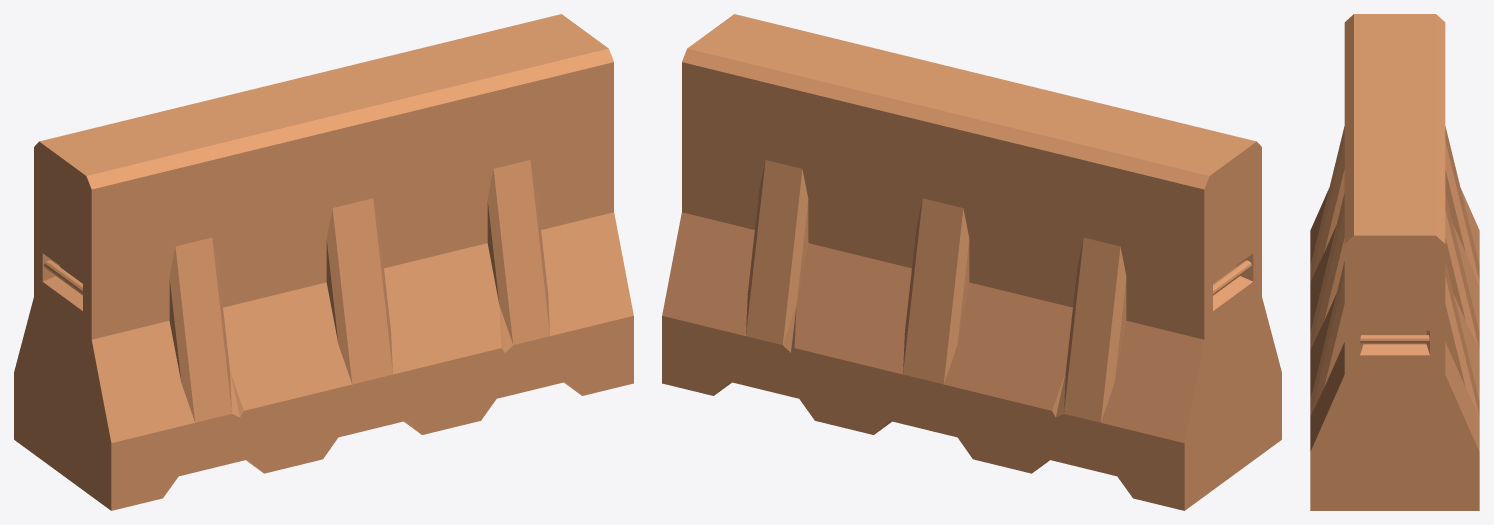
File: env_barrier_01.glb
The picture shows the model from 3 angles, left to right: view 1: azimuth 30°, elevation 25°; view 2: azimuth 150°, elevation 25°; view 3: azimuth 270°, elevation 25°; orthographic projection. The views are drawn at different scales.
Parts seen in each view (by area): view 1: _tmp_env_env_barrier_01.obj; view 2: _tmp_env_env_barrier_01.obj; view 3: _tmp_env_env_barrier_01.obj.
Boxes of the visible parts, bbox=[...] form: _tmp_env_env_barrier_01.obj: bbox=[14, 14, 633, 510]; _tmp_env_env_barrier_01.obj: bbox=[662, 14, 1281, 510]; _tmp_env_env_barrier_01.obj: bbox=[1310, 14, 1479, 510].
Size of the model in its own units: 1.04 by 0.5995 by 0.3339.
